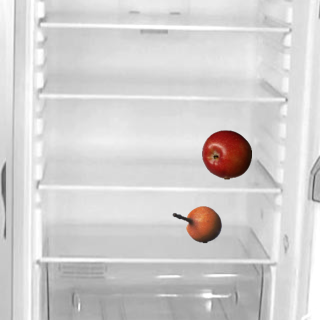Apple Braeburn: (201, 129, 251, 179)
Granadilla: (171, 199, 221, 249)
